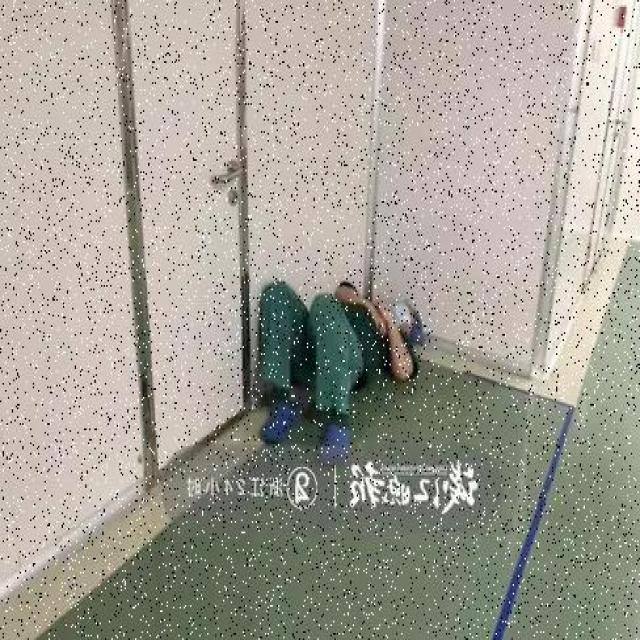fall: (242, 273, 426, 453)
